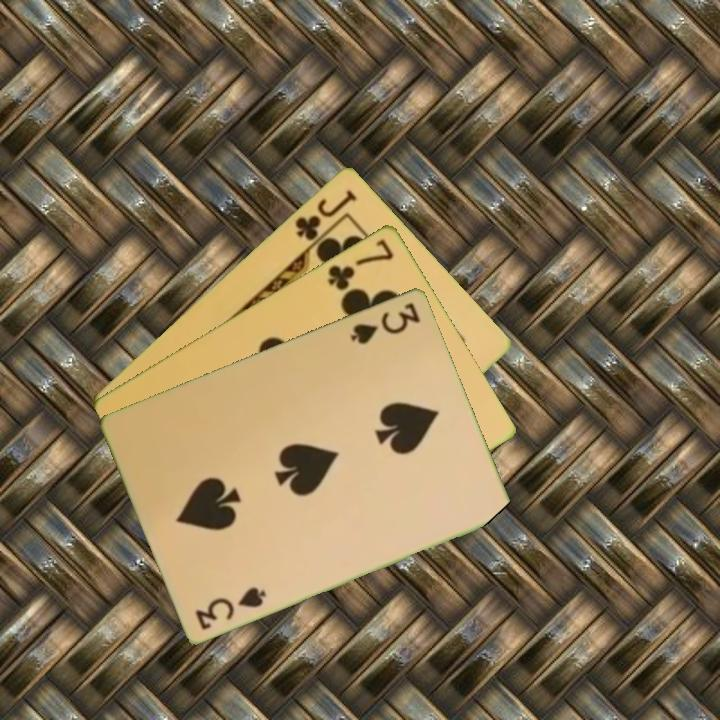3s: (191, 582, 270, 632), (347, 298, 424, 347)
7c: (324, 234, 397, 293)
Jc: (291, 185, 360, 244)
